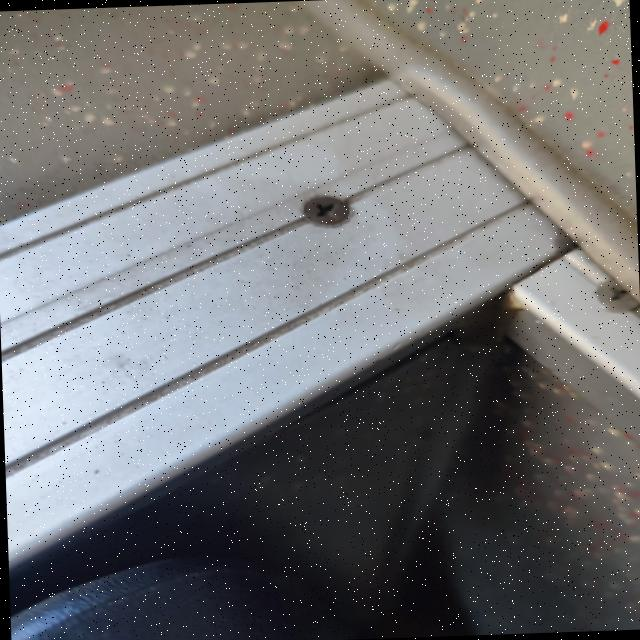Phillips: (294, 192, 358, 238)
